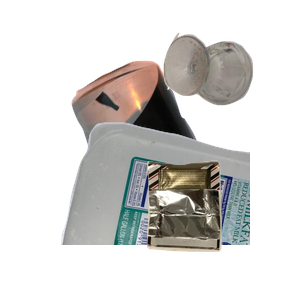glass: (161, 30, 300, 128)
metal: (69, 58, 300, 238)
plastic: (58, 120, 298, 300)
trash: (144, 158, 300, 300)
